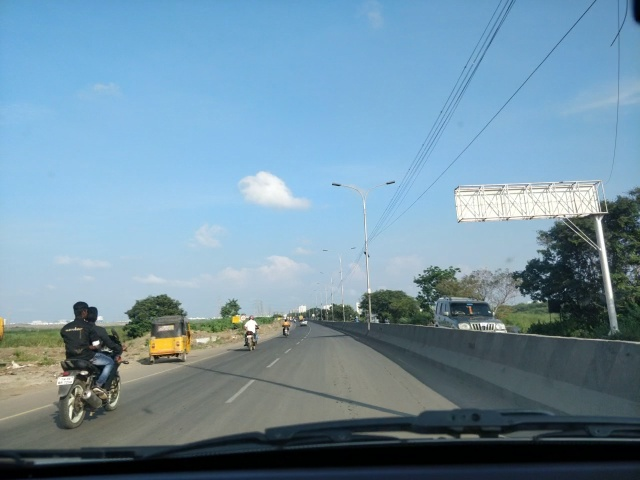auto: (147, 317, 192, 359)
motorbike: (58, 295, 123, 423), (236, 309, 262, 352), (277, 313, 294, 340)
vehicle: (430, 291, 506, 333)
